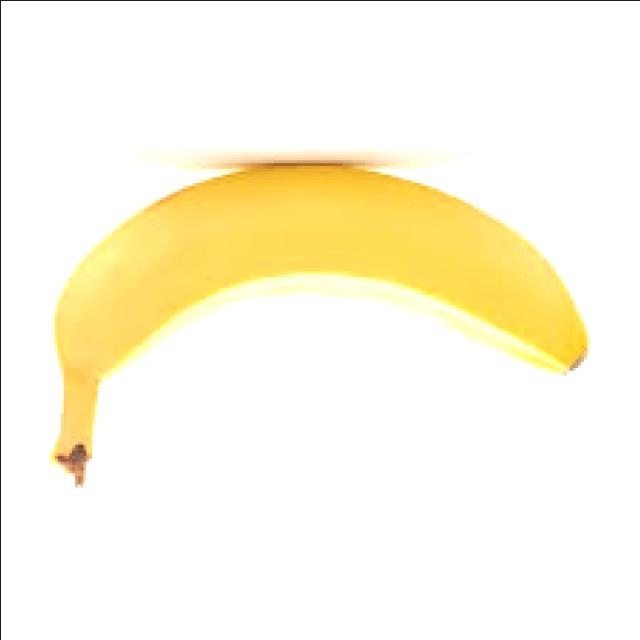agrume: (45, 156, 595, 492)
